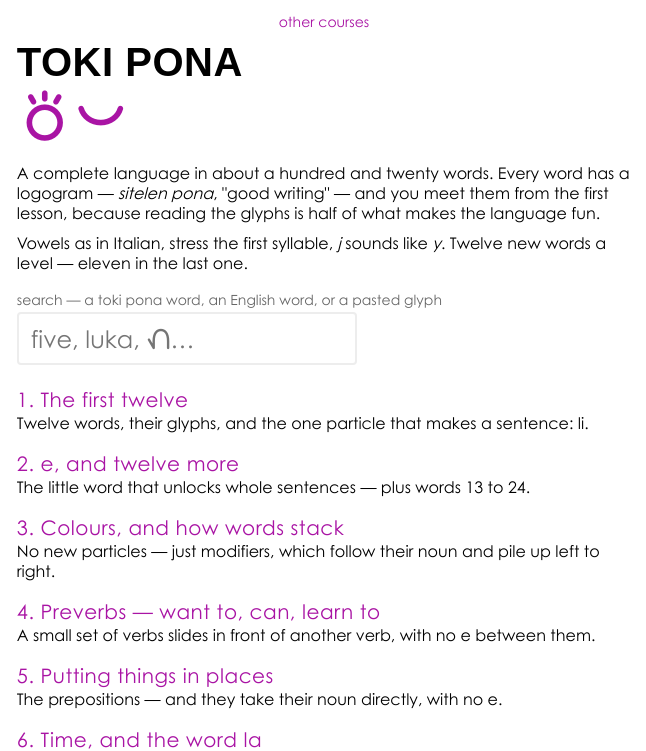
it: toki pona › a level that only mentions a word in its prose says "mentioned", not "used"
Type "jan" into the field labelled "search" at point(187, 338), box 17,312 -> 357,365
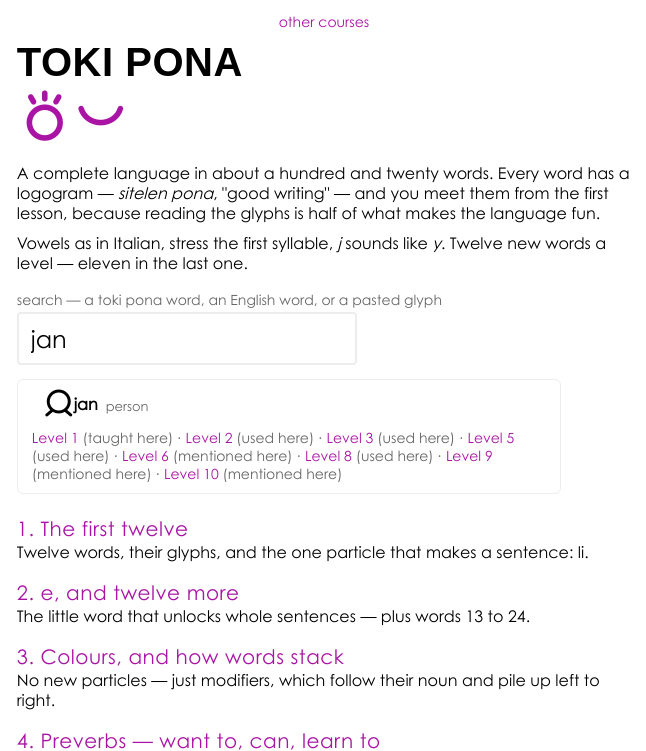
Expected: the element with class "tp__search-levels" shows "Level 6 (mentioned here)", 32,429 -> 546,483
